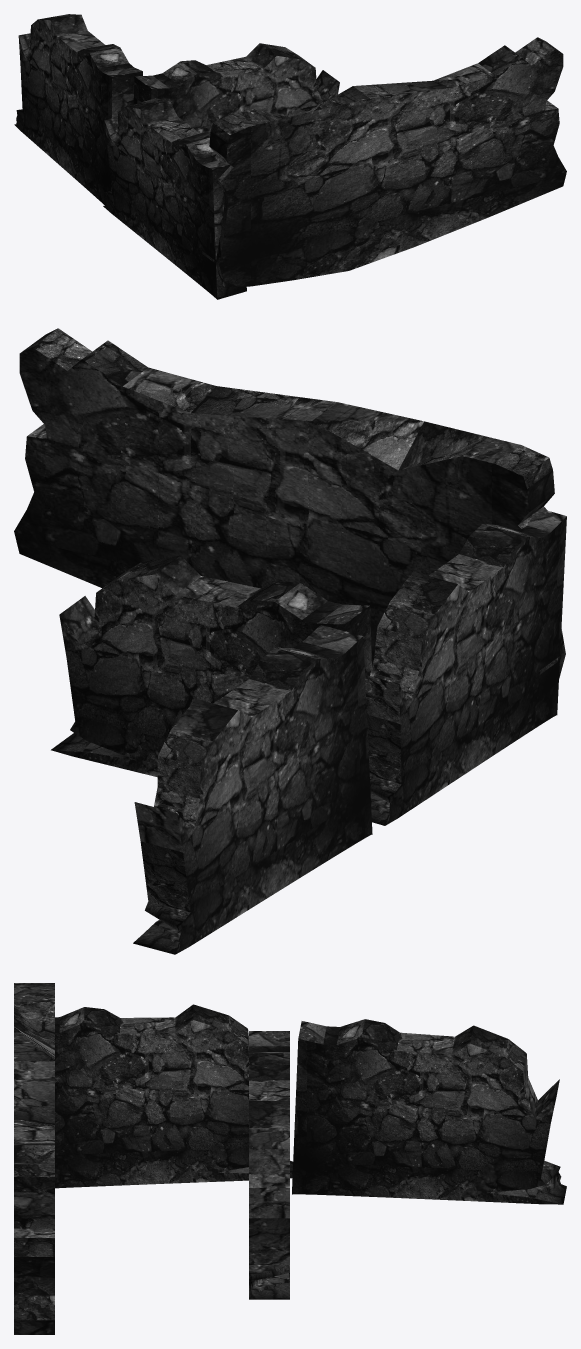
The model's file is RuinC.FBX.
3 renders of one model, top to bottom at view 1: azimuth 30°, elevation 25°; view 2: azimuth 150°, elevation 25°; view 3: azimuth 270°, elevation 25°, orthographic. The views are drawn at different scales.
Visible parts, largest first — view 1: Line001, Line003, Line002, Line004; view 2: Line001, Line002, Line003, Line004; view 3: Line002, Line003, Line001, Line004.
Part boxes in pixels (x1,y1,x2,y2): Line001: (202, 37, 566, 286); Line003: (103, 98, 246, 299); Line002: (14, 14, 142, 205); Line004: (133, 43, 339, 133); Line001: (14, 328, 565, 678); Line002: (133, 625, 372, 954); Line003: (365, 508, 566, 825); Line004: (51, 555, 371, 777); Line002: (292, 1019, 566, 1204); Line003: (55, 1004, 292, 1188); Line001: (14, 983, 54, 1334); Line004: (249, 1031, 289, 1299).
Bounding box in the file's own units: 178 × 82.86 × 203.
1 material, 1 textured.
